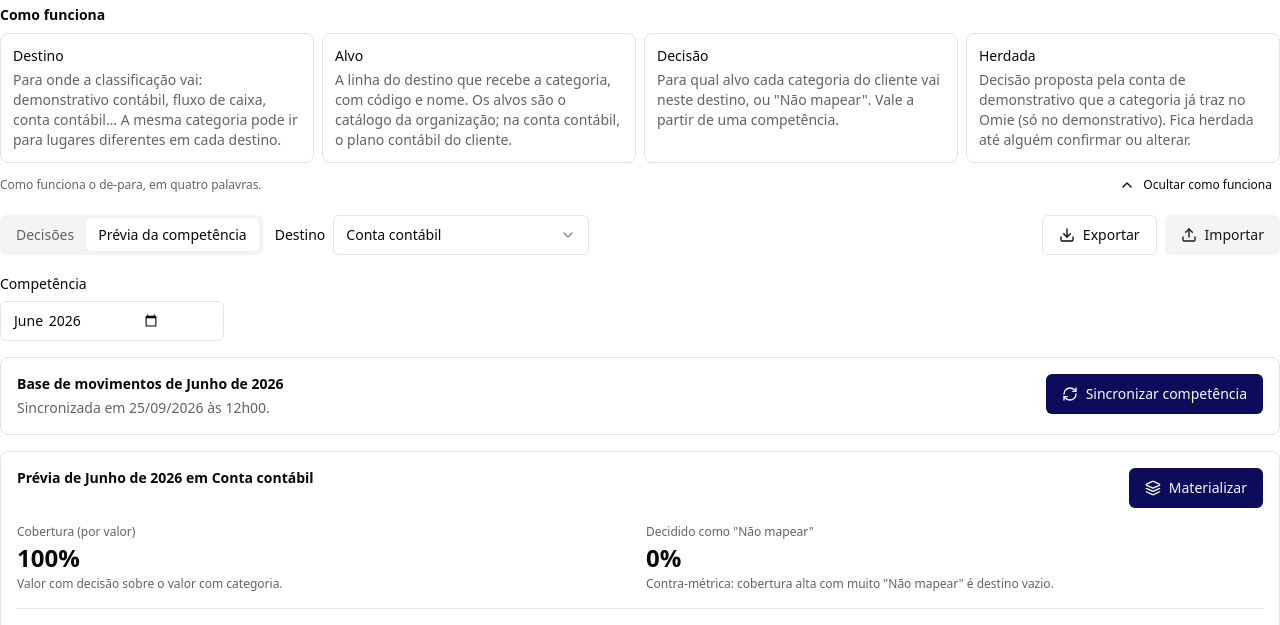
Test: prévia no conta_contabil › 409 CONTA_DO_BANCO_PENDENTE vira ESTADO com as contas pendentes, sem toast
Click the button "Materializar": (1196, 488) [1129,468,1263,508]
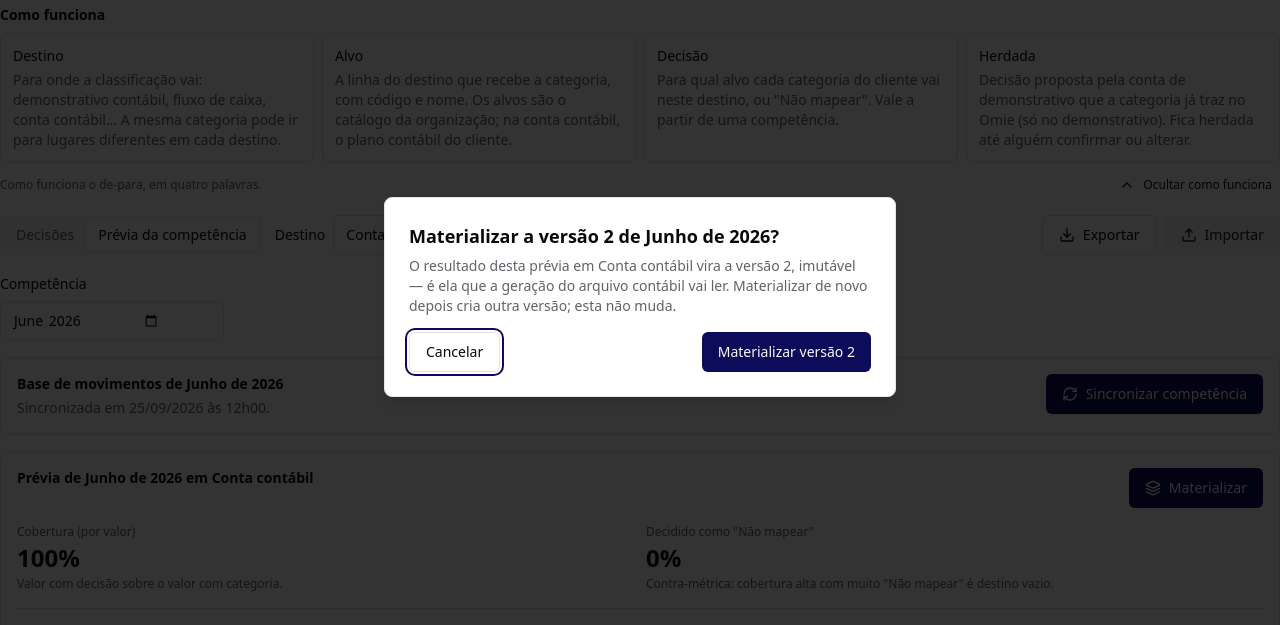
Click the button "Materializar versão 2": (786, 352) [702,332,871,372]
(page scrolled)
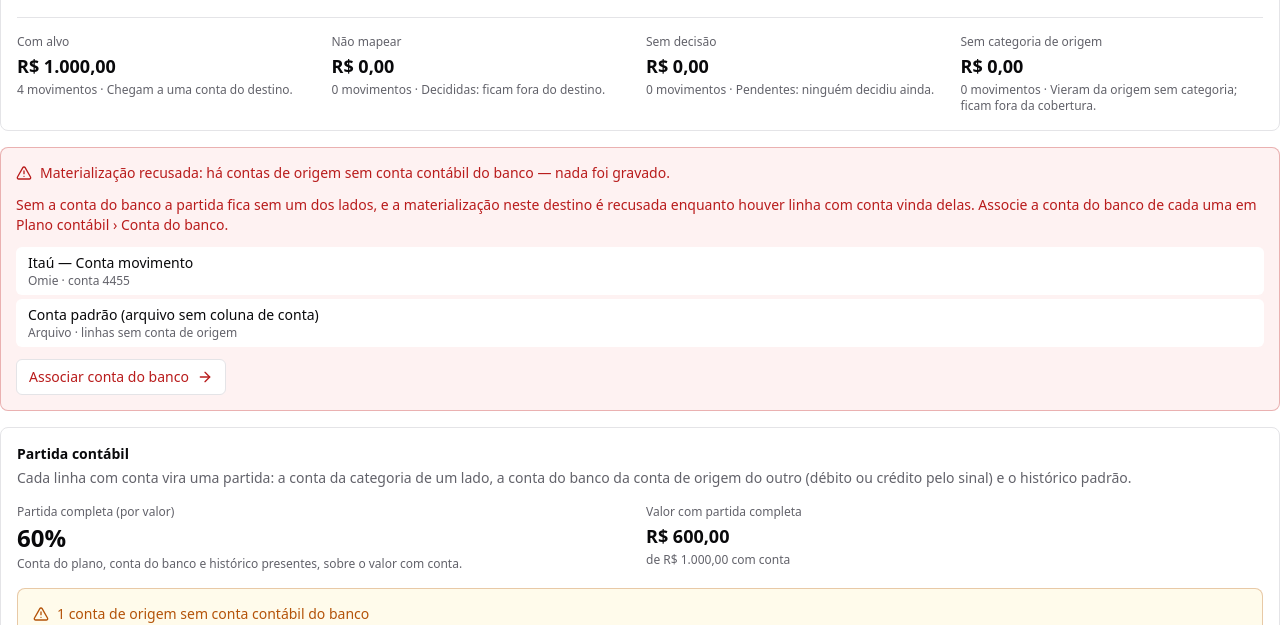
Expected: the message with test id "bank-pending-refusal" shows "nada foi gravado", [40,163,670,182]
Expected: the list named "Contas de origem sem conta do banco" shows "Itaú — Conta movimento", [28,253,193,272]
Expected: the list named "Contas de origem sem conta do banco" shows "Conta padrão (arquivo sem coluna de conta)", [28,305,319,324]
